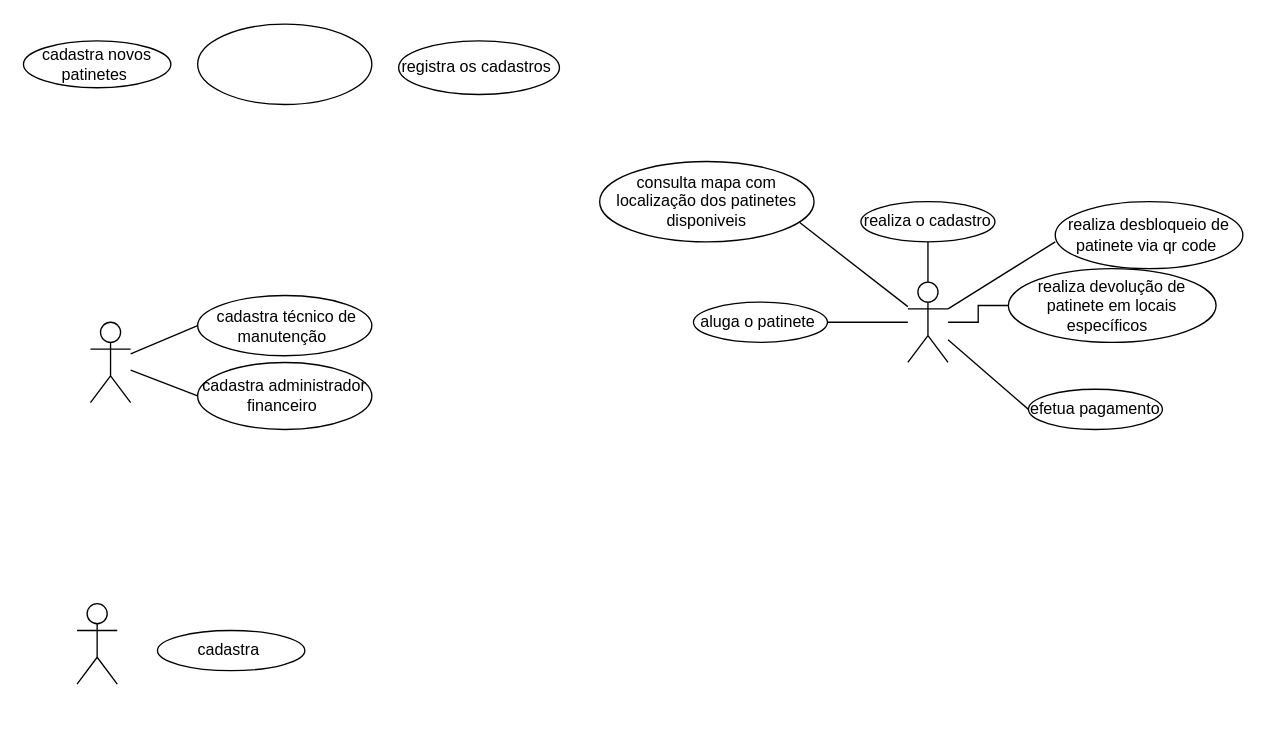
This 1266x734 diagram has some shape labels left out. The centre of each missing label's shape, as x and y in pixels:
administra os alugueis de patinetes: point (284, 64)
gerente operacional: point (110, 362)
proprietário: point (96, 643)
usuário: point (927, 321)
